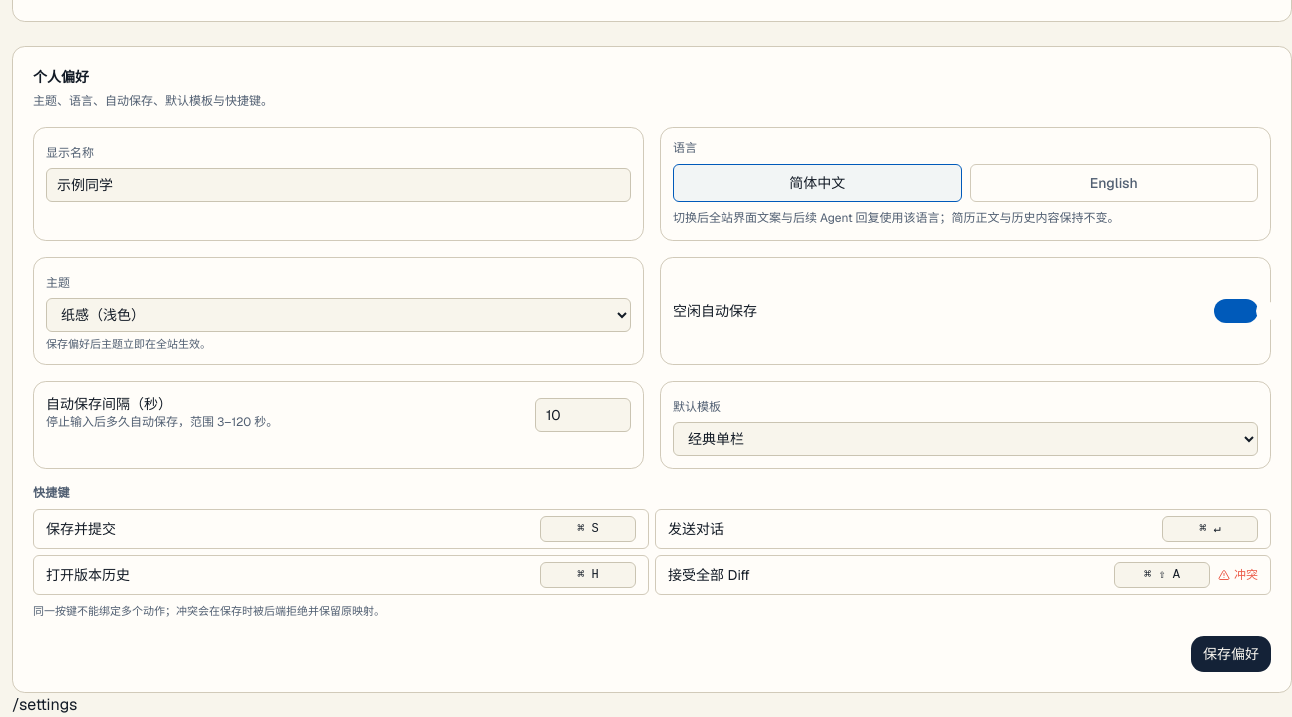
Test: SettingsForm › 可编辑快捷键并保存
(page scrolled)
Replace the text in the field named "保存并提交 快捷键" with "⌘ K" at x=588, y=529, box [540,516,636,542]
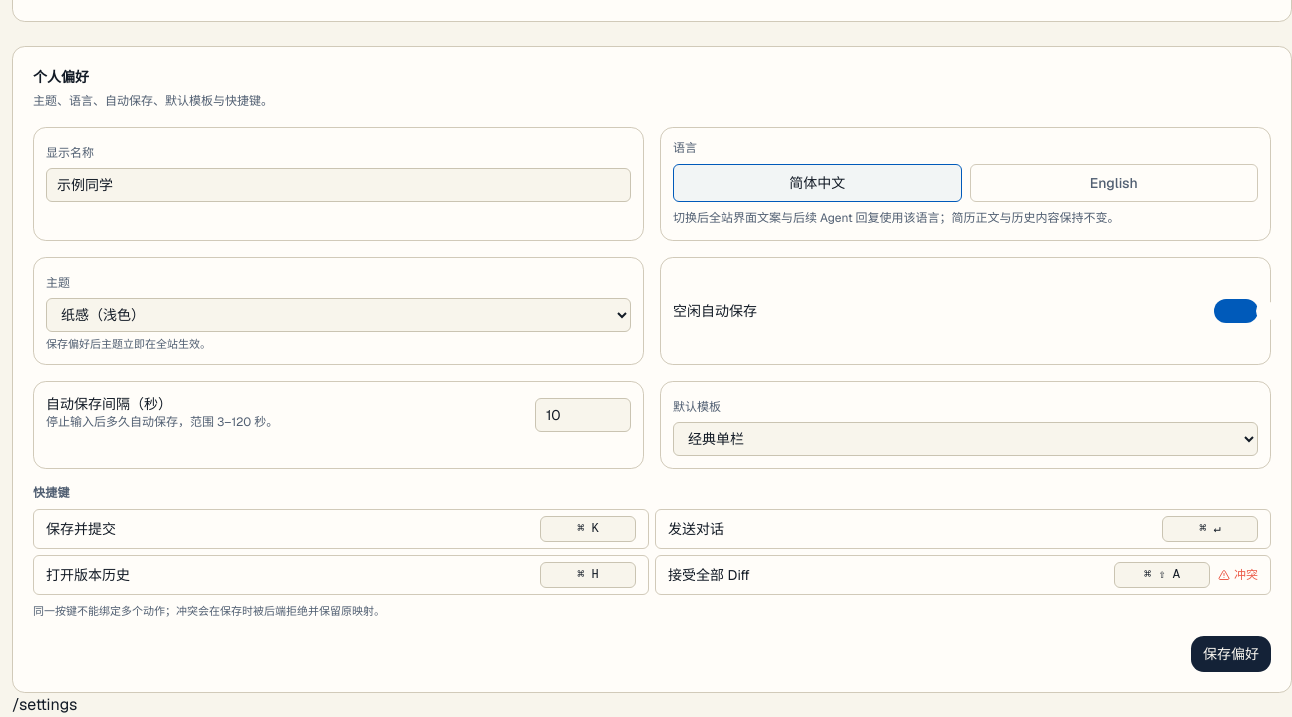
Click the button "保存偏好".
click(1231, 654)  # box [1191,636,1271,672]
(page scrolled)
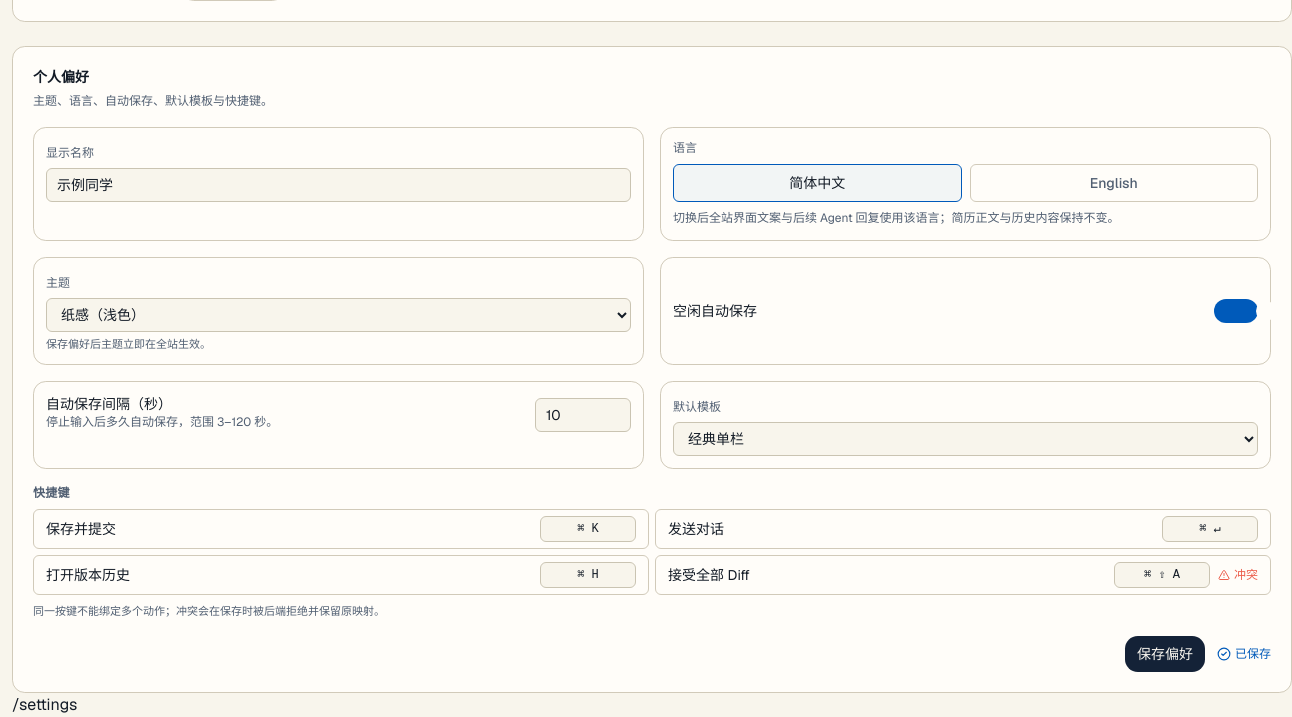
Now the text "已保存" is shown, box [1217,646,1271,662]
